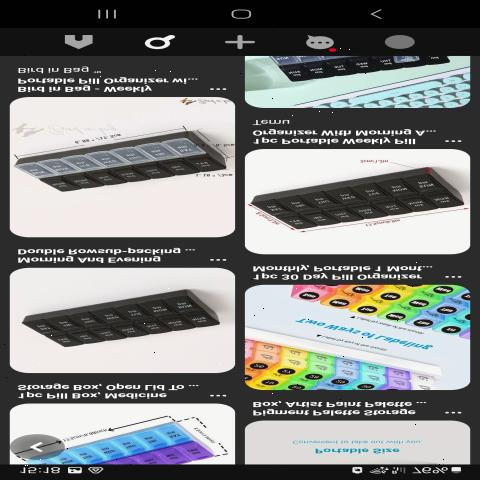PillBox: (11, 114, 223, 201), (13, 278, 232, 359), (253, 158, 470, 236)
